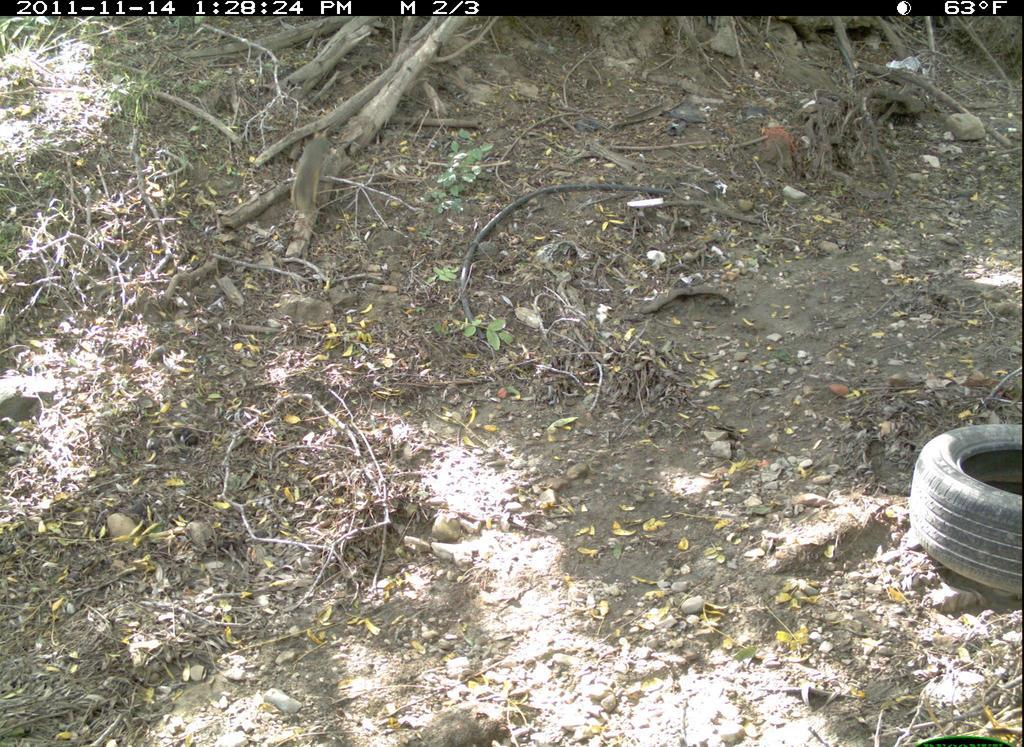squirrel: (280, 121, 350, 233)
